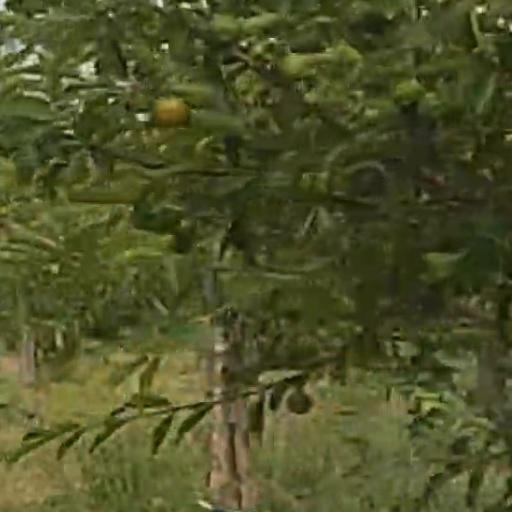acerola_vermelha: (153, 97, 189, 123)
